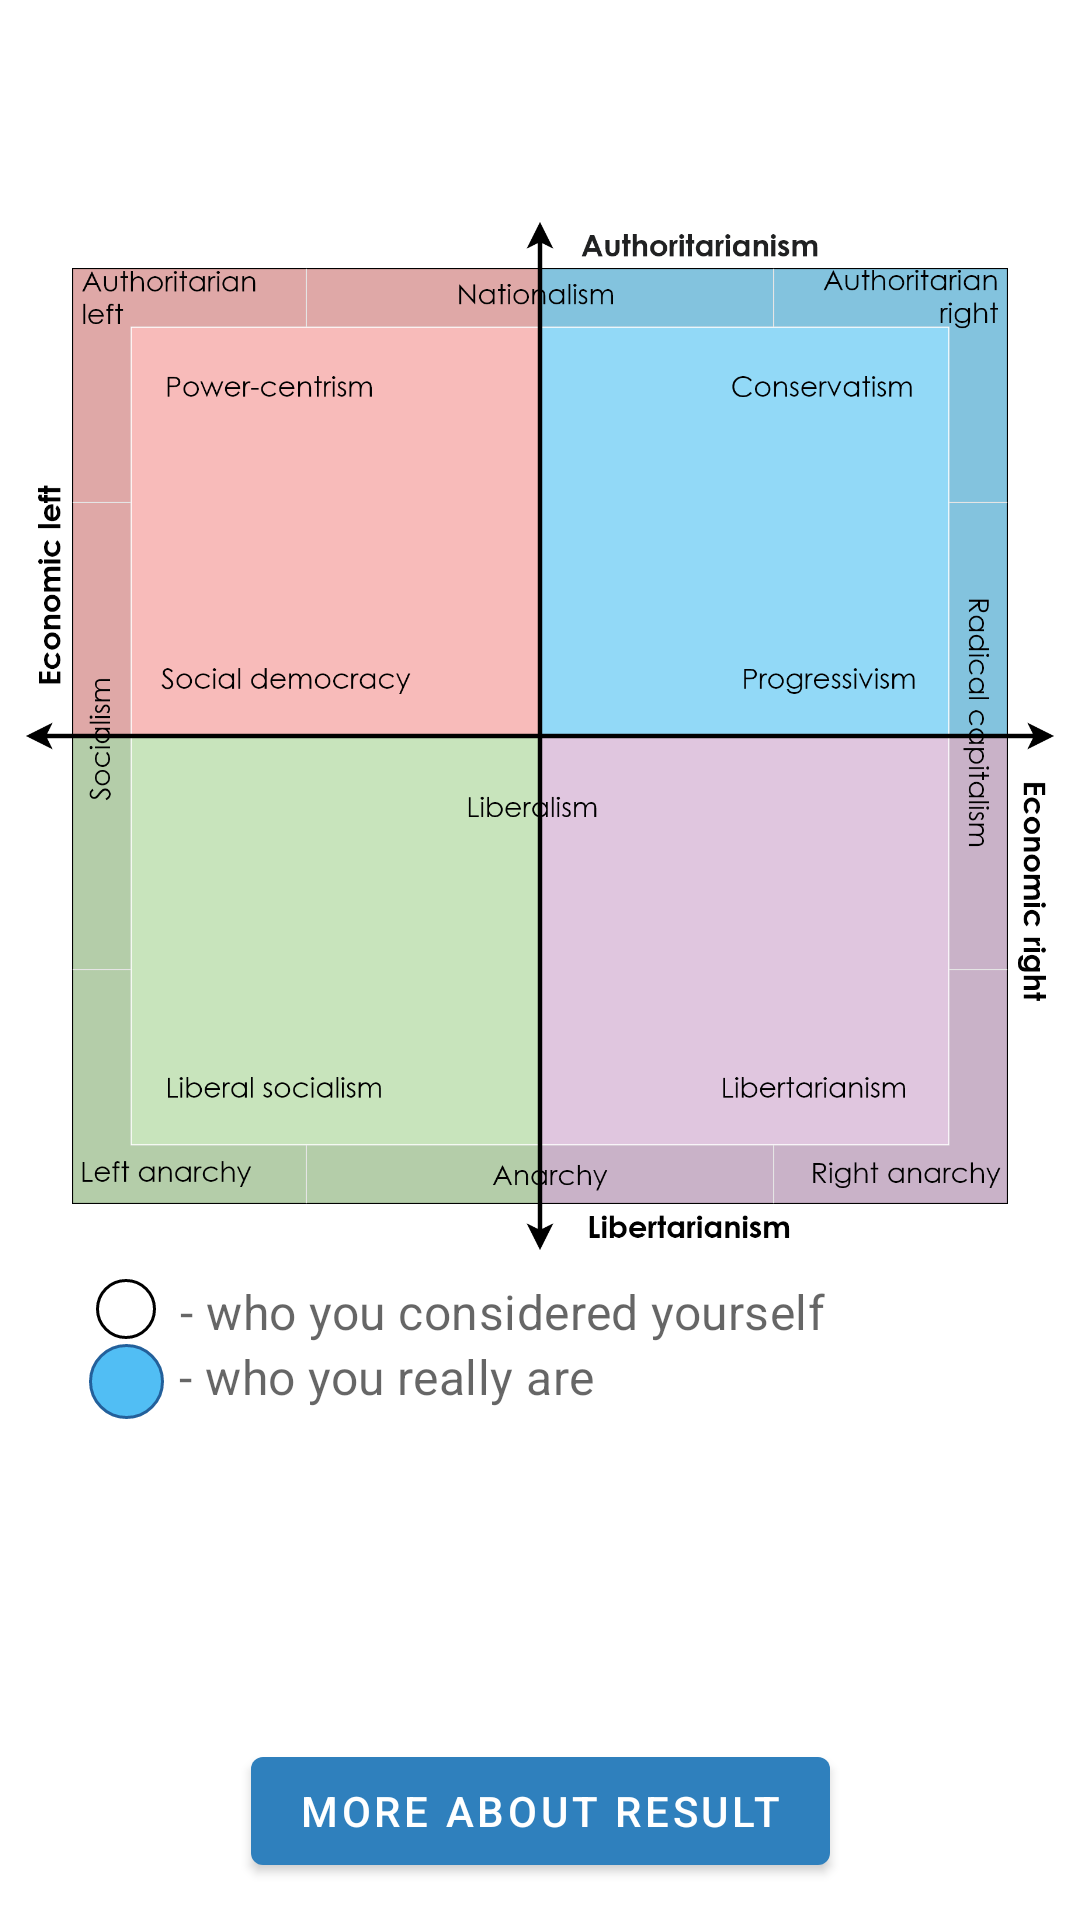

Icons on this 1080x1920 Android screen, each with the point to tap as [x,y]:
shape circle: [126,1309], [126,1381]
